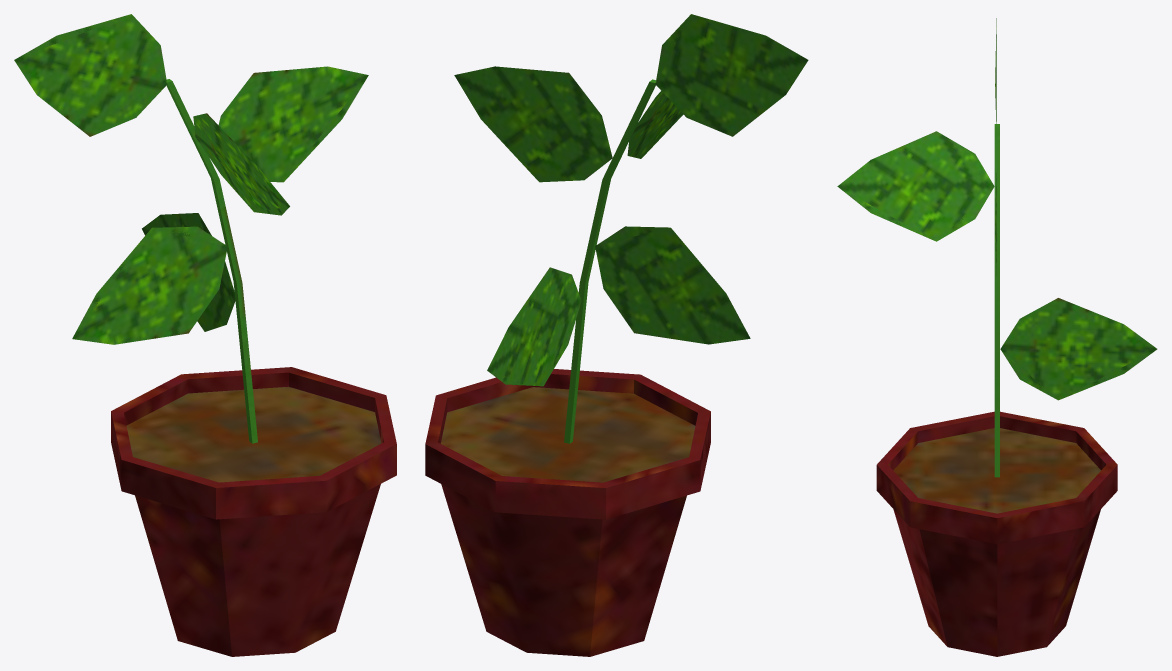
Rendered from PottedPlant.fbx.
3 views of the same model, side by side, from view 1: azimuth 30°, elevation 25°; view 2: azimuth 150°, elevation 25°; view 3: azimuth 270°, elevation 25° (orthographic). The views are drawn at different scales.
Visible parts, largest first — view 1: PottedPlant; view 2: PottedPlant; view 3: PottedPlant.
Part boxes in pixels (left/top/right/bottom): PottedPlant: left=14, top=14, right=396, bottom=656; PottedPlant: left=425, top=14, right=808, bottom=656; PottedPlant: left=837, top=18, right=1157, bottom=656.
Bounding box in the file's own units: 66.25 × 108 × 59.48.
Materials: 1 (1 with a texture image).
